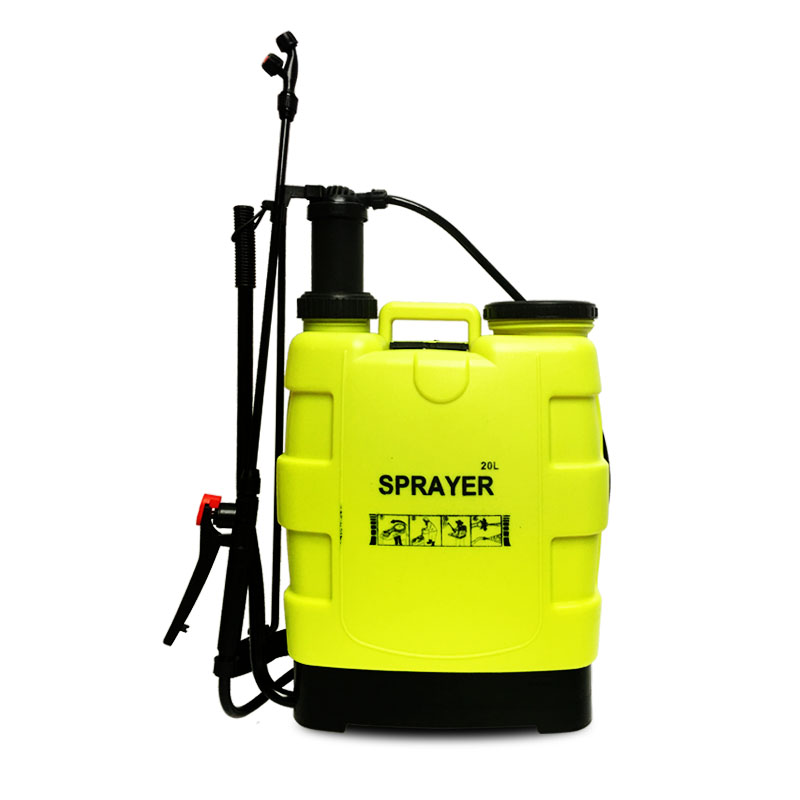berrl: (271, 265, 621, 743)
